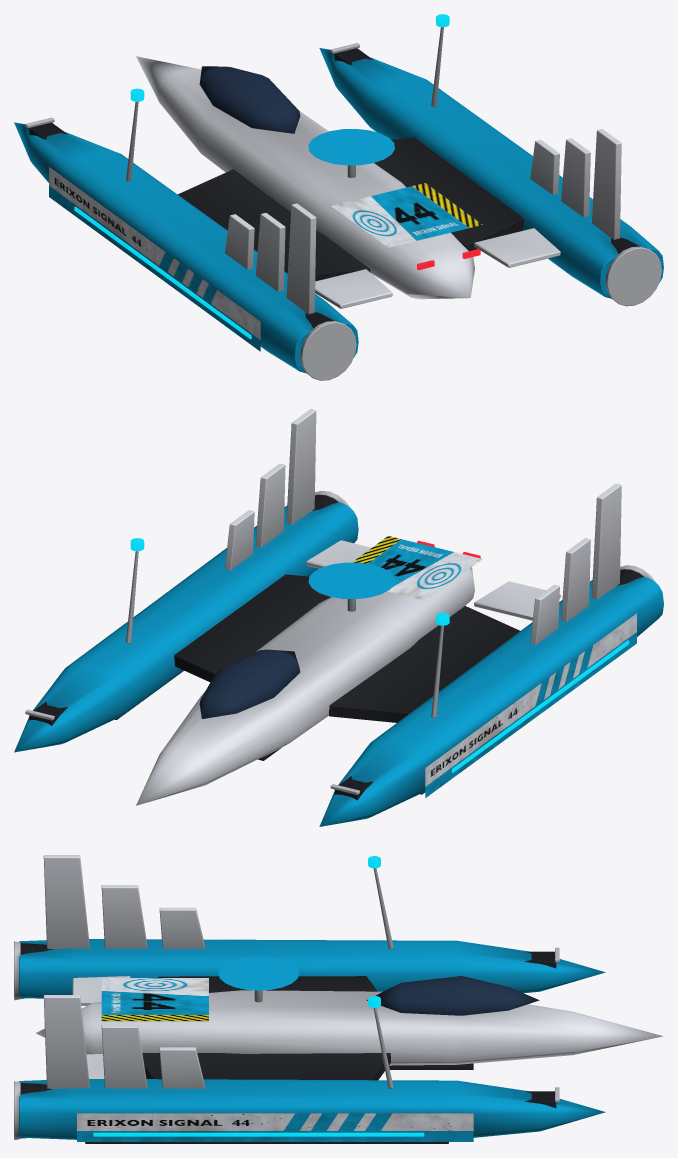
The model's file is craft_5.glb.
3 views of the same model, one above another, from view 1: azimuth 30°, elevation 25°; view 2: azimuth 150°, elevation 25°; view 3: azimuth 270°, elevation 25° (orthographic). The views are drawn at different scales.
Visible parts, largest first — view 1: craft_5_body, craft_5_hull_L, craft_5_livery, craft_5_canopy, flap_R_plate.005, flap_L_plate.005; view 2: craft_5_body, craft_5_hull_L, craft_5_canopy, craft_5_livery, flap_L_plate.005, flap_R_plate.005; view 3: craft_5_body, craft_5_hull_R, craft_5_livery, craft_5_canopy, flap_L_plate.005.
Part boxes in pixels (x1,y1,x2,y2): craft_5_body: [14, 14, 663, 380]; craft_5_hull_L: [49, 167, 260, 351]; craft_5_livery: [331, 183, 482, 247]; craft_5_canopy: [199, 66, 300, 133]; flap_R_plate.005: [474, 228, 560, 267]; flap_L_plate.005: [315, 269, 392, 308]; craft_5_body: [14, 409, 663, 826]; craft_5_hull_L: [425, 613, 636, 797]; craft_5_canopy: [199, 649, 300, 718]; craft_5_livery: [352, 536, 482, 600]; flap_L_plate.005: [474, 581, 560, 620]; flap_R_plate.005: [306, 540, 371, 568]; craft_5_body: [14, 855, 662, 1143]; craft_5_hull_R: [77, 1113, 473, 1141]; craft_5_livery: [101, 978, 208, 1021]; craft_5_canopy: [366, 976, 539, 1015]; flap_L_plate.005: [72, 976, 130, 1006].
Bounding box in the file's own units: 4.97 × 1.89 × 7.86.
11 materials, 2 textured.
